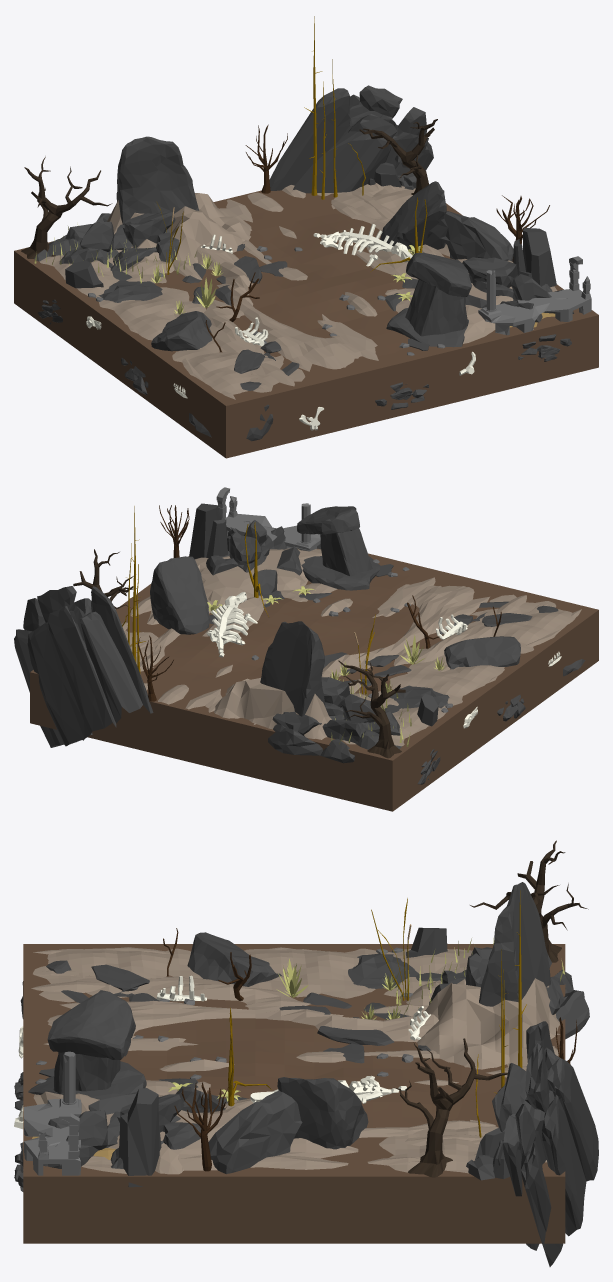
The model's file is Wasteland.fbx.
3 views of the same model, one above another, from view 1: azimuth 30°, elevation 25°; view 2: azimuth 150°, elevation 25°; view 3: azimuth 270°, elevation 25° (orthographic). The views are drawn at different scales.
Parts seen in each view (by area): view 1: Cube, Terrain_Plane_Dirt_Uneven_01 (6), Terrain_Plane_Rock_Uneven_Large_01, Rock_Chunks_Large_Tall_01 1, Rock_Large_06, Rock_Chunks_Large_01, Terrain_Mound_Uneven_Dirt_01, Terrain_Plane_Dirt_Uneven_01 (1), Rock_Large_07, Terrain_Rock_Archway_02, Rock_Chunks_Large_01 (1), Terrain_Plane_Dirt_Uneven_01 (3) (+21 smaller); view 2: Cube, Rock_Chunks_Large_Tall_01 1, Terrain_Plane_Dirt_Uneven_01 (6), Terrain_Plane_Rock_Uneven_Large_01, Rock_Chunks_Large_01, Rock_Large_06, Rock_Large_07, Terrain_Mound_Uneven_Dirt_01, Rock_Chunks_Large_01 (1), Terrain_Rock_Mound_01, Terrain_Plane_Dirt_Uneven_01 (3), Terrain_Plane_Dirt_Uneven_01 (1) (+18 smaller); view 3: Cube, Terrain_Plane_Dirt_Uneven_01 (6), Terrain_Plane_Rock_Uneven_Large_01, Rock_Chunks_Large_Tall_01 1, Terrain_Mound_Uneven_Dirt_01, Rock_Large_06, Rock_Chunks_Large_01 (1), Terrain_Rock_Archway_02, Rock_Large_07, Rock_Large_09, Terrain_Plane_Dirt_Uneven_01 (1), Terrain_Plane_Dirt_Uneven_01 (3) (+20 smaller).
Part boxes in pixels (x1,y1,x2,y2): Cube: (14,190,598,458); Terrain_Plane_Dirt_Uneven_01 (6): (154,211,412,357); Terrain_Plane_Rock_Uneven_Large_01: (95,182,557,399); Rock_Chunks_Large_Tall_01 1: (269,85,433,193); Rock_Large_06: (116,136,199,224); Rock_Chunks_Large_01: (59,211,179,271); Terrain_Mound_Uneven_Dirt_01: (107,193,251,274); Terrain_Plane_Dirt_Uneven_01 (1): (172,341,305,394); Rock_Large_07: (380,181,446,249); Terrain_Rock_Archway_02: (427,211,513,261); Rock_Chunks_Large_01 (1): (462,257,573,327); Terrain_Plane_Dirt_Uneven_01 (3): (99,287,206,340); Cube: (30,548,598,811); Rock_Chunks_Large_Tall_01 1: (14,586,153,747); Terrain_Plane_Dirt_Uneven_01 (6): (158,574,451,697); Terrain_Plane_Rock_Uneven_Large_01: (121,564,581,724); Rock_Chunks_Large_01: (268,677,400,763); Rock_Large_06: (260,621,325,716); Rock_Large_07: (150,556,209,634); Terrain_Mound_Uneven_Dirt_01: (214,675,381,739); Rock_Chunks_Large_01 (1): (206,520,302,594); Terrain_Rock_Mound_01: (195,548,321,606); Terrain_Plane_Dirt_Uneven_01 (3): (389,655,504,705); Terrain_Plane_Dirt_Uneven_01 (1): (467,594,575,653); Cube: (23,944,565,1243); Terrain_Plane_Dirt_Uneven_01 (6): (54,989,507,1127); Terrain_Plane_Rock_Uneven_Large_01: (31,947,559,1173); Rock_Chunks_Large_Tall_01 1: (492,1021,598,1266); Terrain_Mound_Uneven_Dirt_01: (406,978,559,1069); Rock_Large_06: (479,882,550,1006); Rock_Chunks_Large_01 (1): (43,1086,221,1168); Terrain_Rock_Archway_02: (208,1090,302,1173); Rock_Large_07: (277,1077,368,1149); Rock_Large_09: (47,990,135,1059); Terrain_Plane_Dirt_Uneven_01 (1): (33,948,202,1002); Terrain_Plane_Dirt_Uneven_01 (3): (244,948,378,998).
Size of the model in its own units: 11.67 by 7.05 by 11.28.
